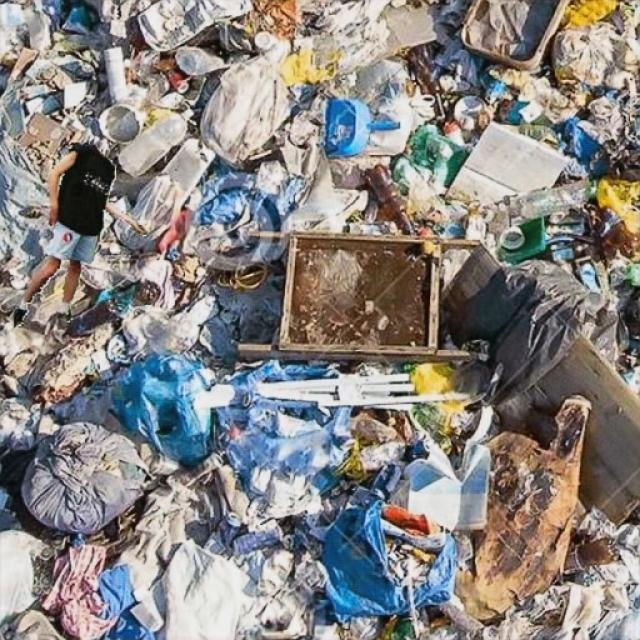Person in Rubble: (13, 142, 146, 328)
